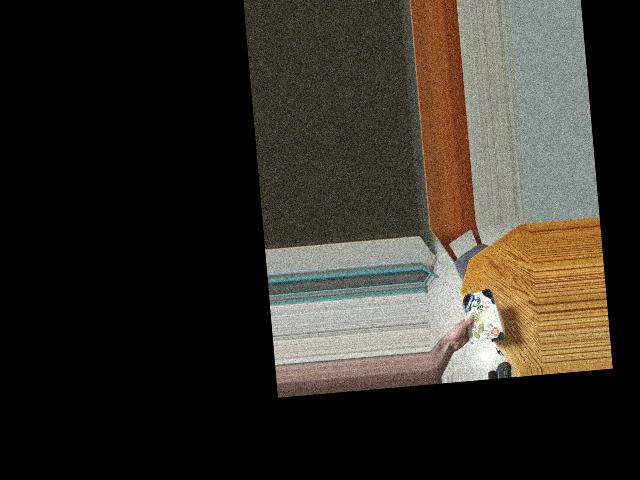cheese: (461, 286, 501, 338)
